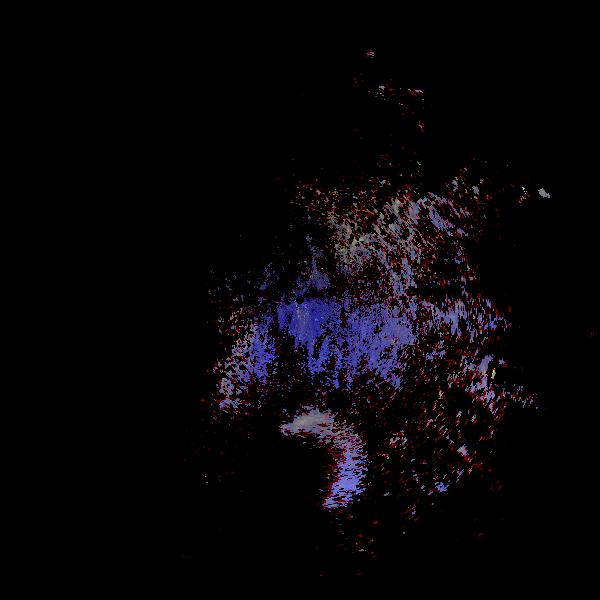roost: (257, 403, 377, 523)
